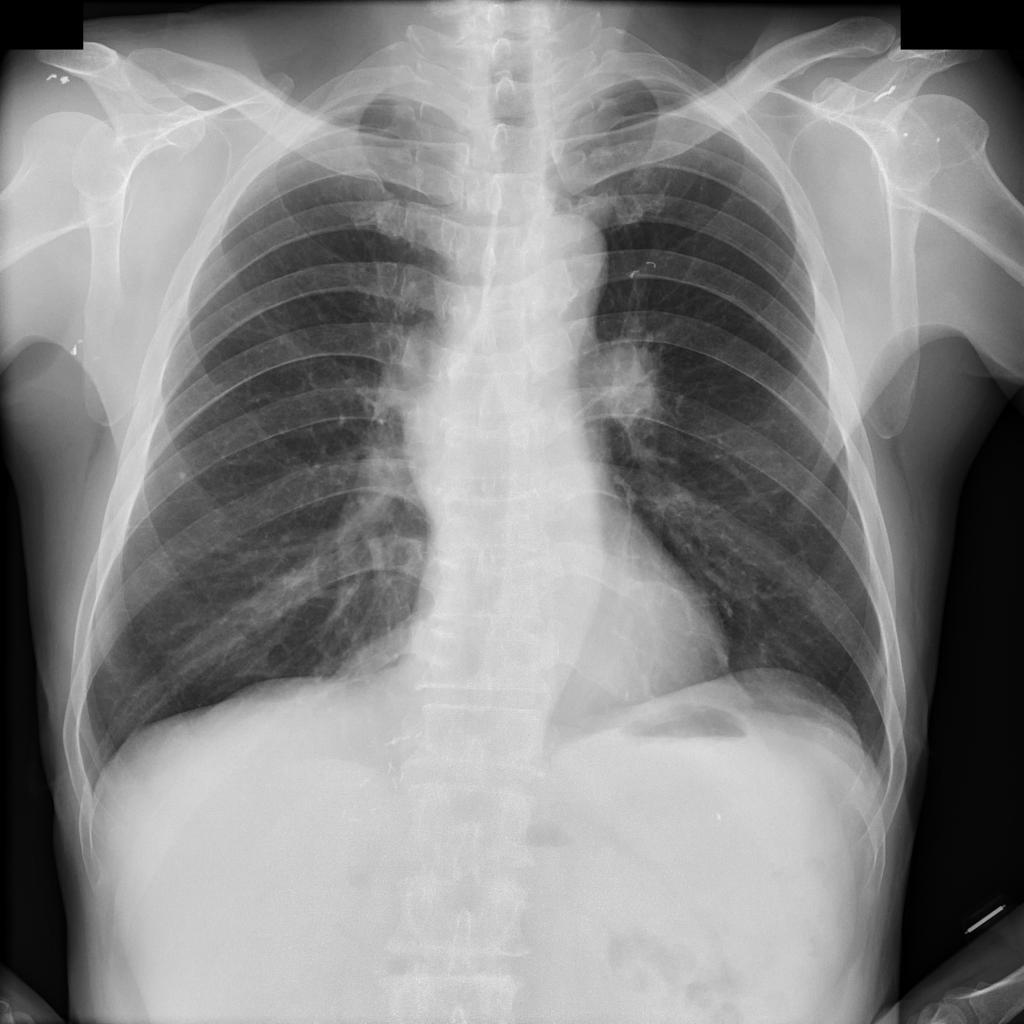Nodule: (586, 345, 660, 416)
